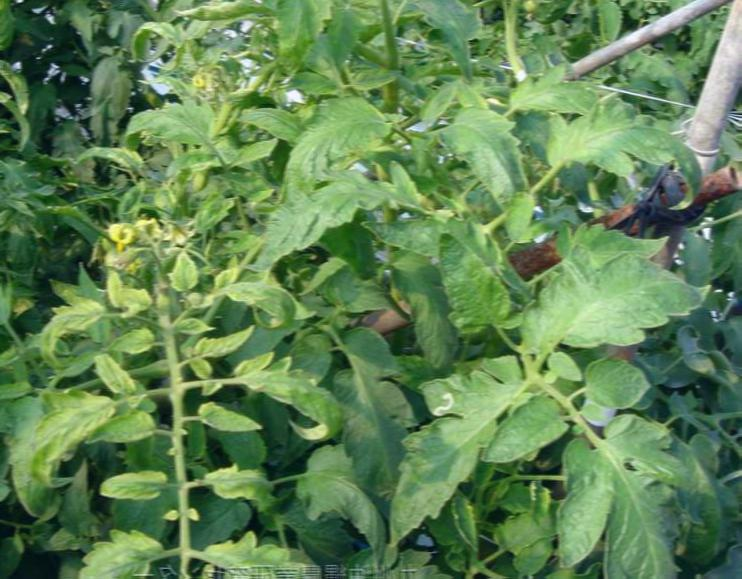Tomato leaf yellow virus: (561, 398, 725, 579), (378, 364, 525, 554), (508, 242, 682, 363), (232, 178, 402, 282), (534, 101, 725, 176), (262, 99, 397, 197), (7, 396, 118, 503), (239, 347, 343, 443), (487, 68, 641, 119), (260, 0, 341, 90), (48, 518, 158, 579), (29, 290, 102, 374), (119, 96, 221, 152), (207, 536, 327, 579), (81, 403, 168, 461), (195, 460, 278, 516), (190, 397, 265, 446), (91, 471, 174, 506), (155, 249, 203, 300)
